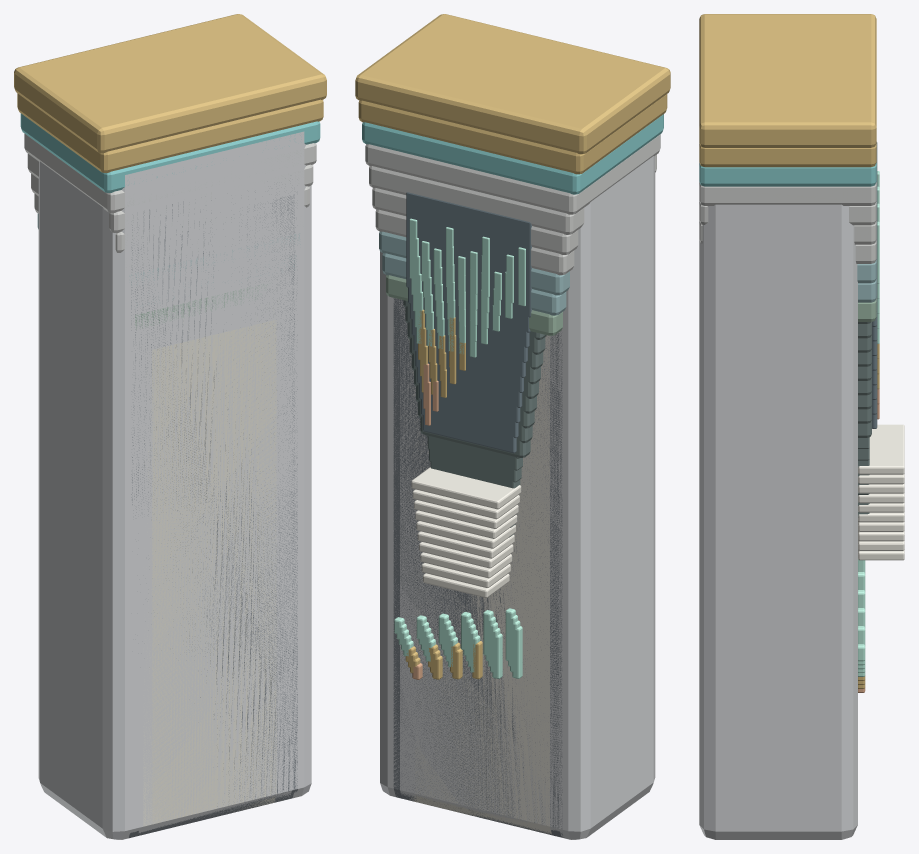
Rendered from Gear16.fbx.
The picture shows the model from 3 angles, left to right: view 1: azimuth 30°, elevation 25°; view 2: azimuth 150°, elevation 25°; view 3: azimuth 270°, elevation 25°; orthographic projection.
Parts seen in each view (by area): view 1: Gear16_V10_Platinum, Gear16_V1_Ivory, Gear16_V10_Gold, Gear16_V8_Graphite, Gear16_V9_Gold, Gear16_V8_Aqua, Gear16_V6_Platinum, Gear16_V7_Chrome, Gear16_V5_Platinum, Gear16_V7_Graphite, Gear16_V6_Chrome, Gear16_V9_Platinum (+2 smaller); view 2: Gear16_V10_Platinum, Gear16_V10_Gold, Gear16_V4_Linen, Gear16_V5_Platinum, Gear16_V7_Graphite, Gear16_V8_Graphite, Gear16_V6_Platinum, Gear16_V10_Glass, Gear16_V9_Gold, Gear16_V8_Aqua, Gear16_V1_Ivory, Gear16_V7_Chrome (+38 smaller); view 3: Gear16_V10_Platinum, Gear16_V10_Gold, Gear16_V9_Gold, Gear16_V8_Aqua, Gear16_V7_Chrome, Gear16_V10_Linen, Gear16_V10_Glow, Gear16_V6_Chrome, Gear16_V5_Chrome, Gear16_V9_Linen, Gear16_V5_Linen, Gear16_V7_Linen (+7 smaller).
Part boxes in pixels (bbox=[...]): Gear16_V10_Platinum: bbox=[38, 131, 311, 839]; Gear16_V1_Ivory: bbox=[152, 320, 276, 824]; Gear16_V10_Gold: bbox=[14, 14, 326, 152]; Gear16_V8_Graphite: bbox=[129, 192, 297, 838]; Gear16_V9_Gold: bbox=[17, 93, 323, 172]; Gear16_V8_Aqua: bbox=[20, 113, 320, 192]; Gear16_V6_Platinum: bbox=[137, 216, 291, 803]; Gear16_V7_Chrome: bbox=[24, 133, 316, 212]; Gear16_V5_Platinum: bbox=[138, 237, 288, 833]; Gear16_V7_Graphite: bbox=[165, 194, 294, 825]; Gear16_V6_Chrome: bbox=[27, 153, 313, 232]; Gear16_V9_Platinum: bbox=[128, 156, 300, 801]; Gear16_V10_Platinum: bbox=[380, 156, 655, 839]; Gear16_V10_Gold: bbox=[355, 14, 670, 154]; Gear16_V4_Linen: bbox=[407, 335, 551, 834]; Gear16_V5_Platinum: bbox=[403, 307, 553, 830]; Gear16_V7_Graphite: bbox=[396, 298, 561, 837]; Gear16_V8_Graphite: bbox=[393, 298, 564, 838]; Gear16_V6_Platinum: bbox=[400, 299, 555, 810]; Gear16_V10_Glass: bbox=[406, 192, 531, 317]; Gear16_V9_Gold: bbox=[358, 94, 667, 174]; Gear16_V8_Aqua: bbox=[362, 114, 663, 194]; Gear16_V1_Ivory: bbox=[415, 383, 540, 822]; Gear16_V7_Chrome: bbox=[365, 134, 660, 214]; Gear16_V10_Platinum: bbox=[699, 204, 857, 839]; Gear16_V10_Gold: bbox=[699, 14, 876, 147]; Gear16_V9_Gold: bbox=[699, 143, 876, 167]; Gear16_V8_Aqua: bbox=[699, 163, 876, 186]; Gear16_V7_Chrome: bbox=[699, 182, 876, 205]; Gear16_V10_Linen: bbox=[858, 424, 904, 474]; Gear16_V10_Glow: bbox=[858, 171, 879, 661]; Gear16_V6_Chrome: bbox=[699, 201, 876, 225]; Gear16_V5_Chrome: bbox=[699, 221, 876, 244]; Gear16_V9_Linen: bbox=[858, 474, 904, 484]; Gear16_V5_Linen: bbox=[858, 512, 904, 522]; Gear16_V7_Linen: bbox=[858, 493, 904, 503].
Bounding box in the file's own units: 57.12 × 172 × 44.
